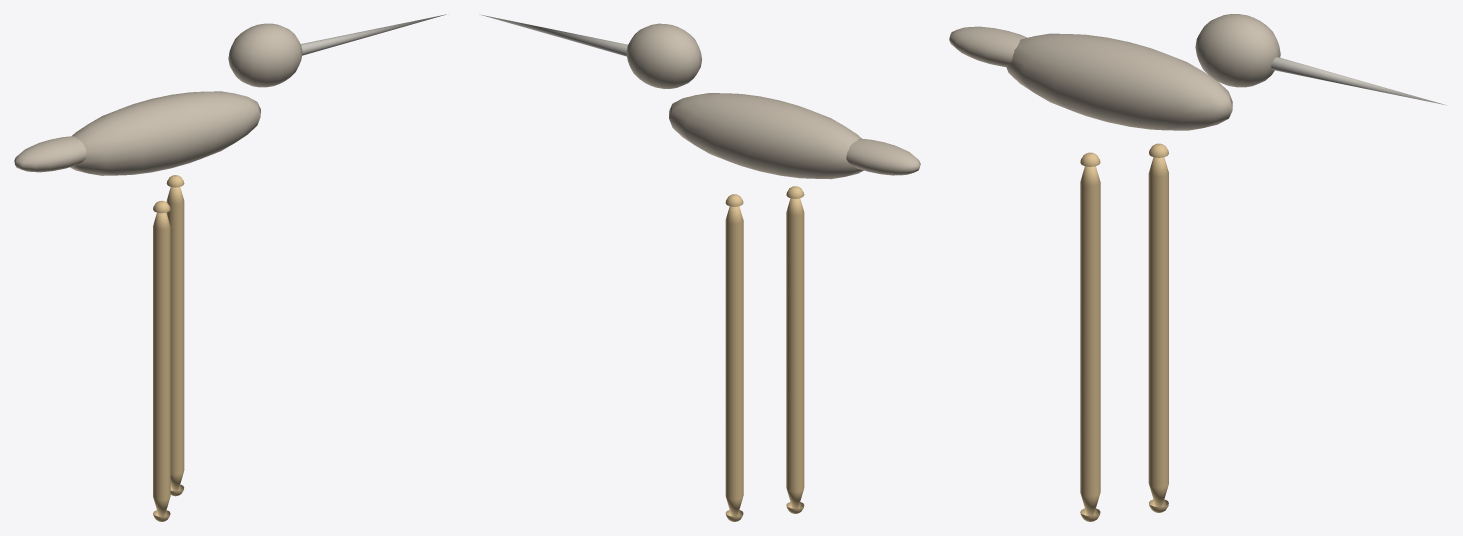
File: sandpiper.glb
The picture shows the model from 3 angles, left to right: view 1: azimuth 30°, elevation 25°; view 2: azimuth 150°, elevation 25°; view 3: azimuth 330°, elevation 25°; orthographic projection. The views are drawn at different scales.
Parts seen in each view (by area): view 1: body, legL, legR, head, tail, bill; view 2: body, legR, legL, head, tail, bill; view 3: body, legL, legR, head, tail, bill.
Part boxes in pixels (left/top/right/bottom): body: left=70, top=91, right=260, bottom=175; legL: left=153, top=200, right=170, bottom=521; legR: left=166, top=175, right=184, bottom=496; head: left=228, top=23, right=302, bottom=87; tail: left=14, top=136, right=86, bottom=172; bill: left=301, top=14, right=446, bottom=55; body: left=669, top=93, right=863, bottom=179; legR: left=725, top=194, right=743, bottom=521; legL: left=786, top=186, right=804, bottom=513; head: left=626, top=23, right=701, bottom=88; tail: left=846, top=138, right=920, bottom=175; bill: left=479, top=14, right=627, bottom=56; body: left=1006, top=33, right=1232, bottom=130; legL: left=1080, top=152, right=1100, bottom=521; legR: left=1148, top=143, right=1168, bottom=512; head: left=1195, top=14, right=1280, bottom=87; tail: left=949, top=26, right=1027, bottom=66; bill: left=1271, top=57, right=1446, bottom=105.
Bounding box in the file's own units: 0.284 × 0.2859 × 0.044.
